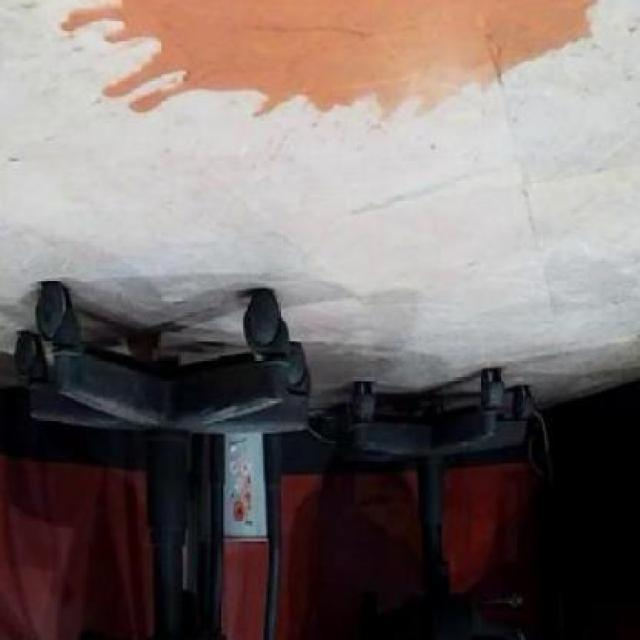spillage: (50, 0, 596, 110)
